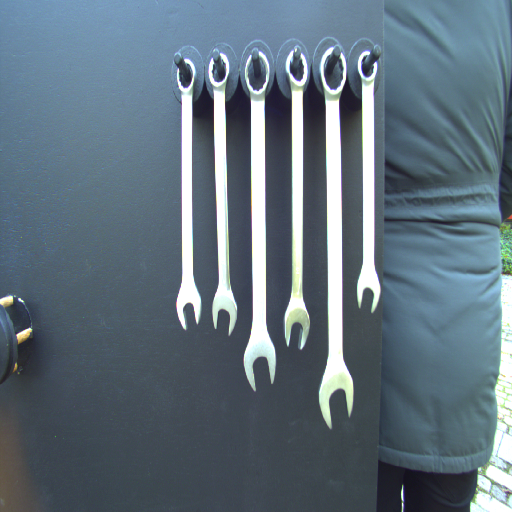bottom: (317, 362, 356, 431), (243, 333, 277, 394), (210, 287, 240, 340), (172, 281, 203, 331), (283, 297, 310, 352), (356, 260, 383, 314)
top: (318, 45, 347, 101), (243, 49, 273, 101), (283, 47, 310, 95), (206, 51, 233, 97), (355, 47, 380, 86), (175, 56, 198, 96)
